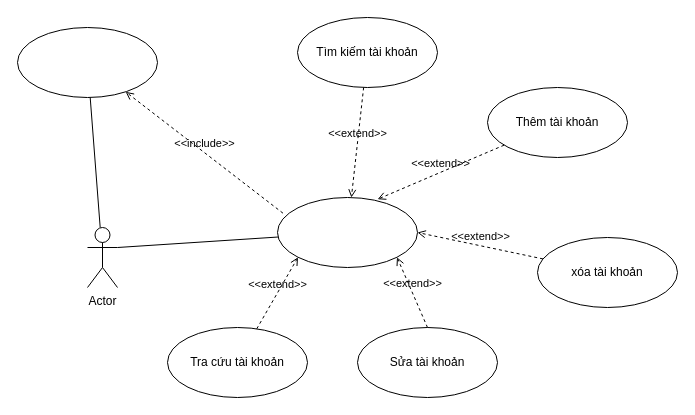
This 695x415 diagram has some shape labels left out. Here are the shapes that lost their labels. From the top down, the centre of each, then its label:
At (x=87, y=62): "Đăng nhập".
At (x=347, y=232): "QL tài khoản".
